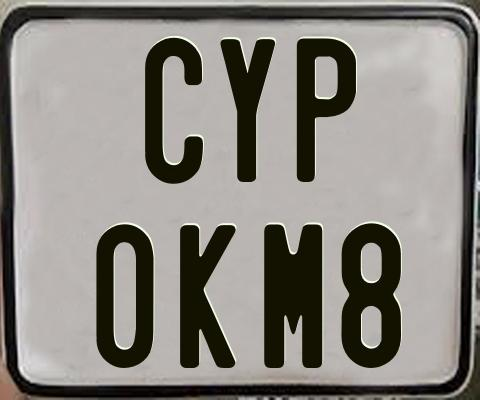0: (96, 221, 154, 366)
8: (338, 220, 402, 367)
C: (145, 38, 204, 185)
K: (177, 225, 233, 374)
M: (263, 221, 327, 371)
P: (294, 37, 354, 182)
Y: (220, 38, 276, 186)
